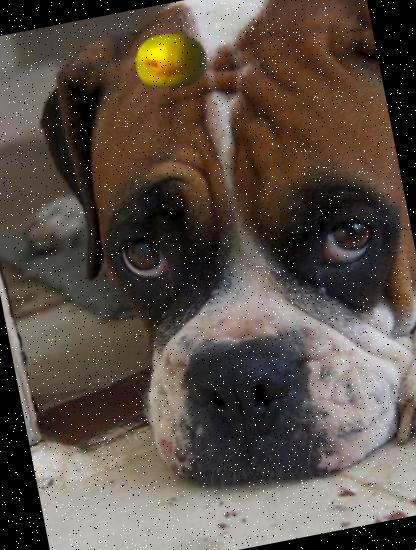Pomelo: (128, 18, 215, 104)
